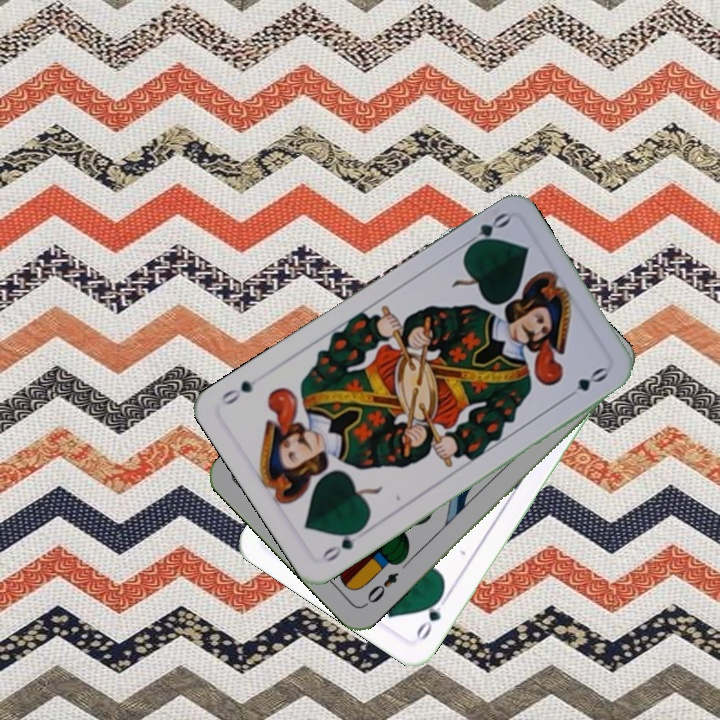EO: (360, 568, 402, 609)
GO: (459, 208, 513, 253), (318, 522, 371, 565), (412, 589, 451, 643)
